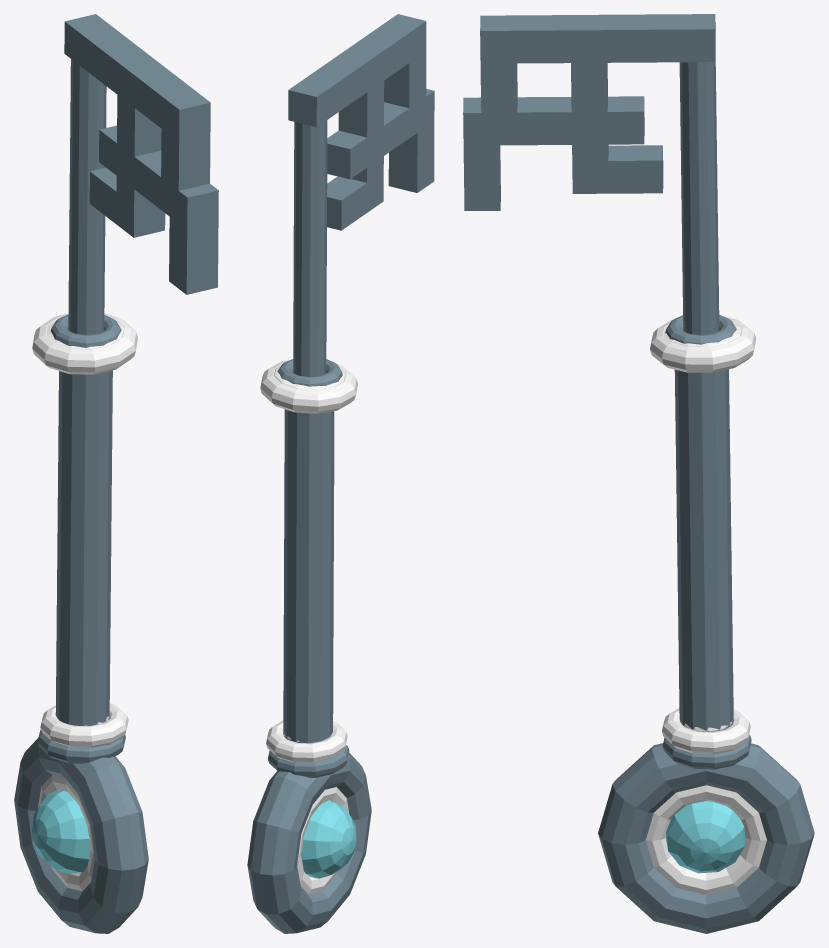
File: mi-casa-skeleton-key-by-vr-xrtist-2MSOSmhgQKH.glb
3 views of the same model, side by side, from view 1: azimuth 30°, elevation 25°; view 2: azimuth 150°, elevation 25°; view 3: azimuth 270°, elevation 25° (orthographic). The views are drawn at different scales.
Visible parts, largest first — view 1: group1341584807, group1354995210, group331579697, group1771175566, group1472055373, group1091550283, group851474192, group623176677, group549781409, group1201248020, group1477750559, group1661659019 (+8 smaller); view 2: group1341584807, group1354995210, group331579697, group1091550283, group1472055373, group1771175566, group851474192, group623176677, group549781409, group1201248020, group402304295, group374829610 (+8 smaller); view 3: group1354995210, group1341584807, group331579697, group1140152002, group1771175566, group1472055373, group851474192, group1091550283, group549781409, group623176677, group385145457, group402304295 (+8 smaller).
Boxes of the visible parts, bbox=[...] form: group1341584807: bbox=[55, 370, 112, 725]; group1354995210: bbox=[14, 737, 148, 933]; group331579697: bbox=[68, 59, 106, 334]; group1771175566: bbox=[126, 61, 210, 142]; group1472055373: bbox=[116, 95, 165, 237]; group1091550283: bbox=[31, 790, 90, 873]; group851474192: bbox=[73, 25, 157, 100]; group623176677: bbox=[32, 313, 137, 374]; group549781409: bbox=[160, 129, 210, 216]; group1201248020: bbox=[40, 703, 128, 747]; group1477750559: bbox=[169, 183, 218, 229]; group1661659019: bbox=[169, 217, 218, 262]; group1341584807: bbox=[283, 409, 334, 743]; group1354995210: bbox=[247, 752, 371, 933]; group331579697: bbox=[293, 120, 327, 376]; group1091550283: bbox=[301, 800, 356, 878]; group1472055373: bbox=[338, 81, 384, 212]; group1771175566: bbox=[348, 14, 426, 85]; group851474192: bbox=[305, 49, 375, 120]; group623176677: bbox=[260, 360, 357, 413]; group549781409: bbox=[384, 51, 426, 138]; group1201248020: bbox=[266, 720, 347, 762]; group402304295: bbox=[327, 176, 366, 230]; group374829610: bbox=[327, 130, 366, 179]; group1354995210: bbox=[598, 743, 814, 933]; group1341584807: bbox=[674, 369, 733, 730]; group331579697: bbox=[679, 62, 719, 334]; group1140152002: bbox=[646, 785, 766, 894]; group1771175566: bbox=[480, 15, 588, 63]; group1472055373: bbox=[571, 63, 608, 193]; group851474192: bbox=[588, 14, 697, 62]; group1091550283: bbox=[666, 801, 745, 873]; group549781409: bbox=[480, 63, 517, 145]; group623176677: bbox=[650, 317, 756, 372]; group385145457: bbox=[499, 97, 571, 145]; group402304295: bbox=[608, 145, 663, 193].
Bounding box in the file's own units: 0.0595 × 0.5564 × 0.1946.
